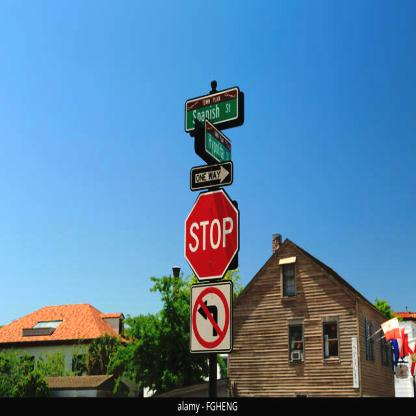No left turn: (189, 283, 236, 354)
